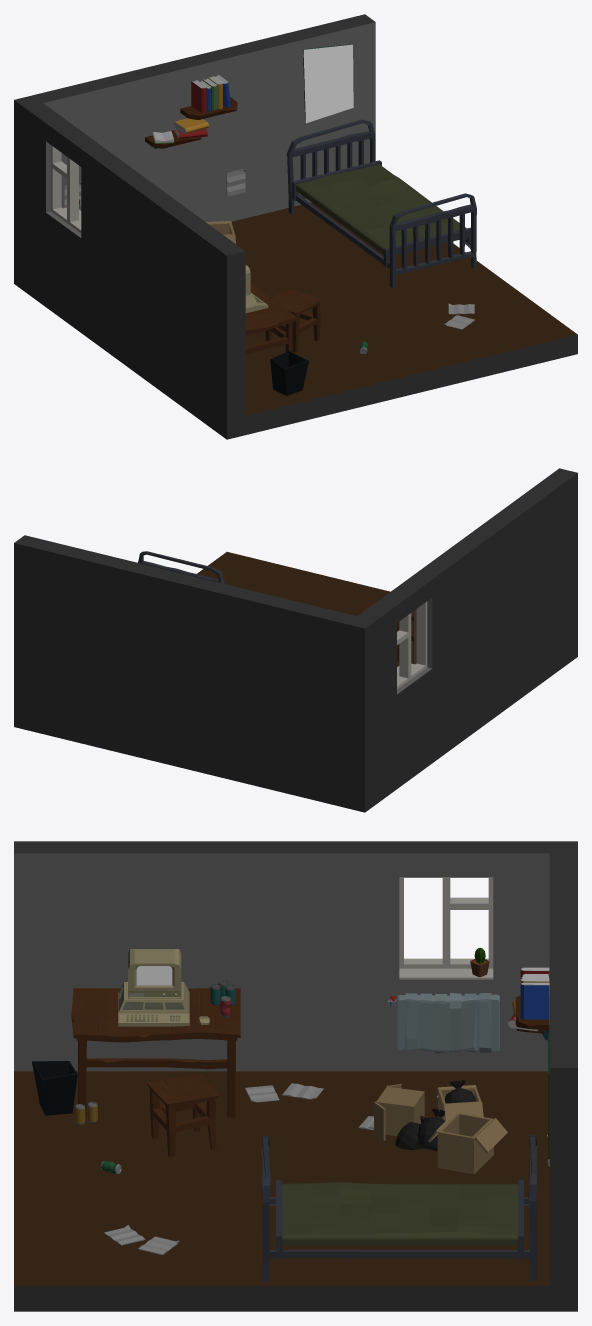
3 renders of one model, top to bottom at view 1: azimuth 30°, elevation 25°; view 2: azimuth 150°, elevation 25°; view 3: azimuth 270°, elevation 25°, orthographic. The views are drawn at different scales.
Visible parts, largest first — view 1: Cube.047, Cube, Cube.002, Cube.003, Plane, Cube.007, Cube.006, Cube.048, Cube.005, Cube.001; view 2: Cube.002, Cube.047, Cube, Cube.003; view 3: Cube.047, Cube, Cube.003, Cube.002, Cube.004, Cube.006, Cube.043, Cube.001, Cube.026, Cube.025, Cube.048, Cube.055 (+6 smaller).
Boxes of the visible parts, left/top/right/bottom form: Cube.047: left=24, top=103, right=245, bottom=439; Cube: left=231, top=202, right=577, bottom=434; Cube.002: left=14, top=14, right=375, bottom=291; Cube.003: left=287, top=119, right=476, bottom=288; Plane: left=303, top=44, right=353, bottom=123; Cube.007: left=270, top=351, right=308, bottom=395; Cube.006: left=245, top=283, right=297, bottom=334; Cube.048: left=265, top=303, right=320, bottom=352; Cube.005: left=271, top=288, right=322, bottom=314; Cube.001: left=245, top=323, right=292, bottom=353; Cube.002: left=14, top=535, right=375, bottom=812; Cube.047: left=357, top=468, right=577, bottom=804; Cube: left=197, top=552, right=413, bottom=666; Cube.003: left=138, top=551, right=224, bottom=583; Cube.047: left=14, top=841, right=550, bottom=1071; Cube: left=14, top=1071, right=549, bottom=1311; Cube.003: left=261, top=1135, right=537, bottom=1281; Cube.002: left=549, top=841, right=577, bottom=1311; Cube.004: left=387, top=993, right=499, bottom=1053; Cube.006: left=71, top=988, right=240, bottom=1042; Cube.043: left=428, top=1111, right=507, bottom=1174; Cube.001: left=78, top=1040, right=235, bottom=1117; Cube.026: left=128, top=949, right=181, bottom=998; Cube.025: left=118, top=982, right=189, bottom=1026; Cube.048: left=149, top=1088, right=216, bottom=1156; Cube.055: left=374, top=1084, right=424, bottom=1140.
Size of what is drawn, in the model's own units: 1020 by 511 by 1072.
